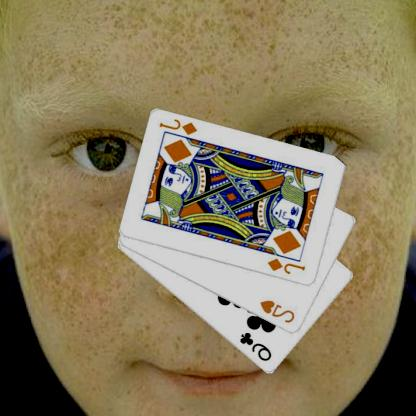2H: (259, 297, 298, 325)
9C: (238, 330, 274, 364)
JD: (158, 116, 200, 137), (266, 256, 309, 276)
